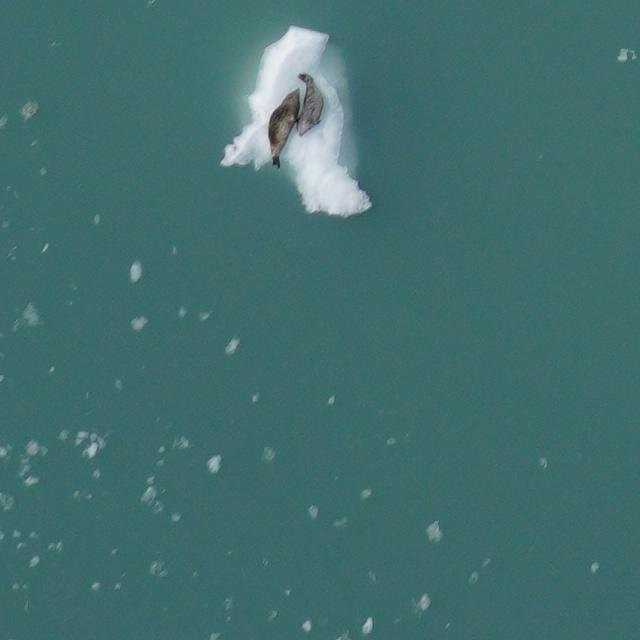seal: (252, 80, 312, 169), (296, 72, 325, 137)
